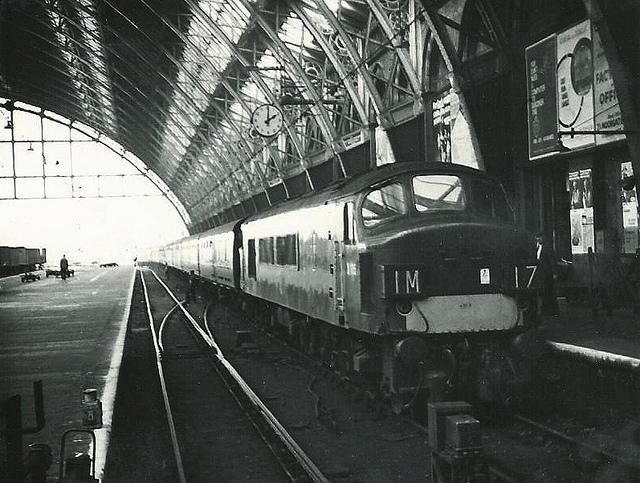Train: (159, 161, 563, 414)
